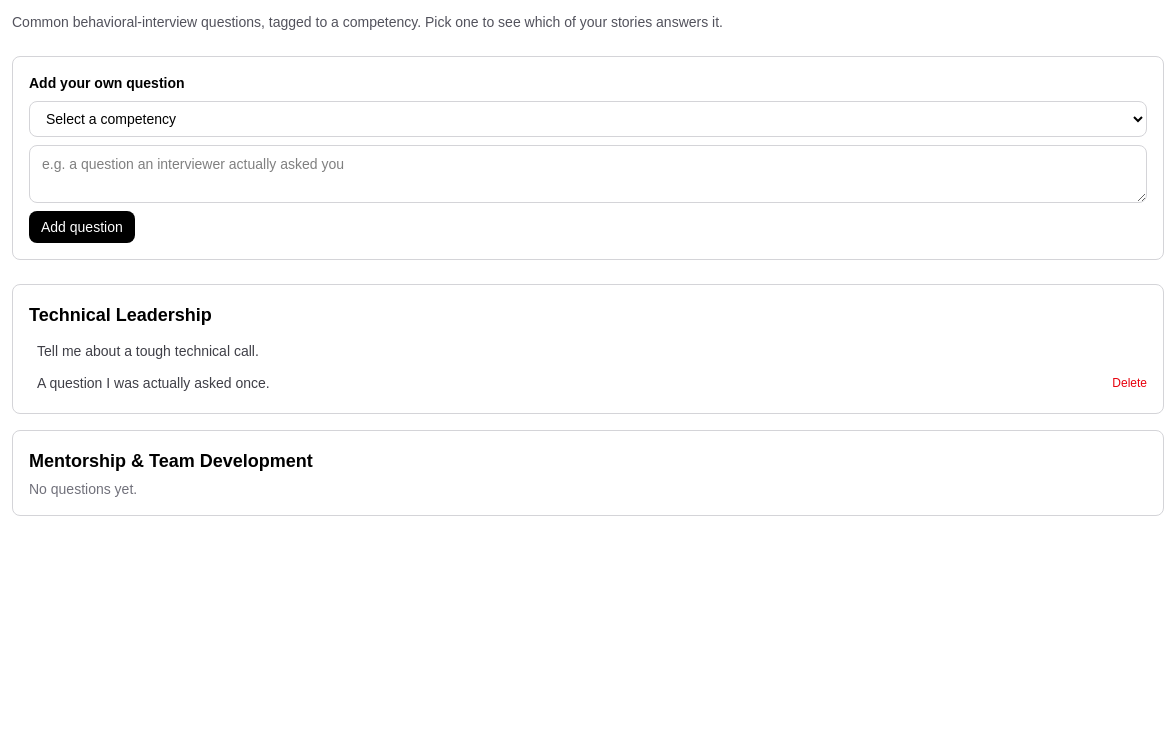
Test case: QuestionsHome › deletes a custom question after confirmation
This screenshot has width=1164, height=732.
Expected: the link "A question I was actually asked once." is shown, [37,375,270,391]
Click the button "Delete": coordinates (1130, 383) [1112,375,1147,391]
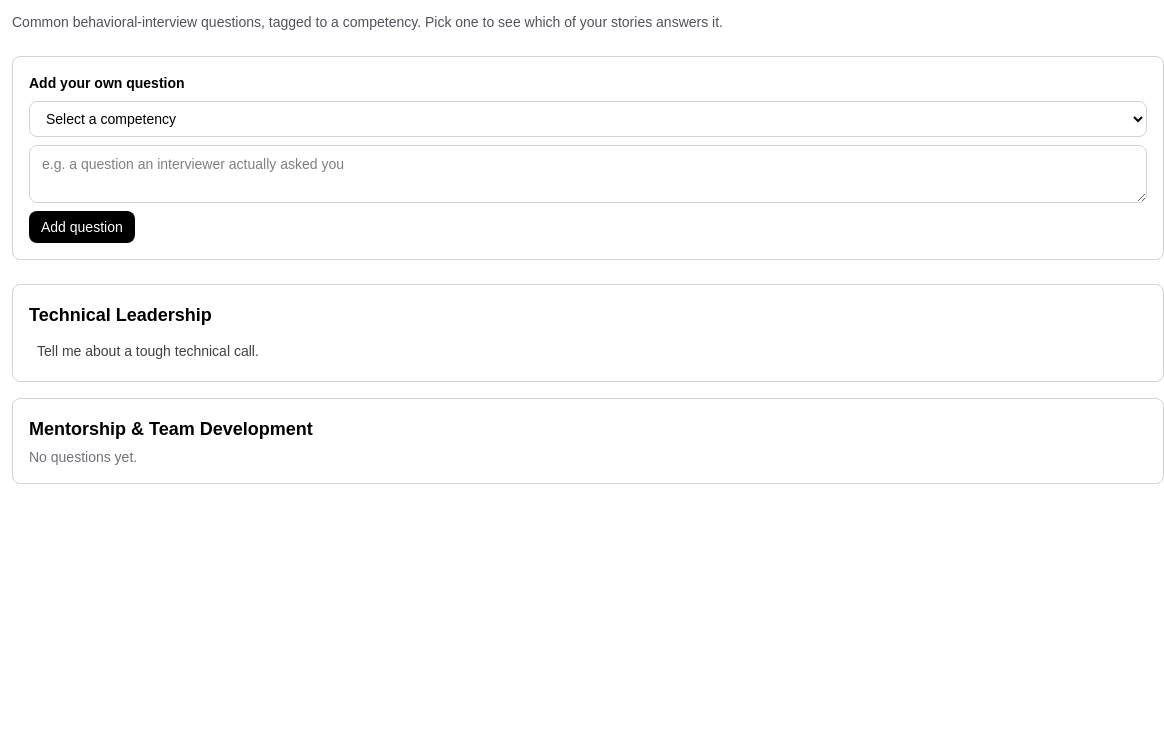
Expected: the link "A question I was actually asked once." is gone
